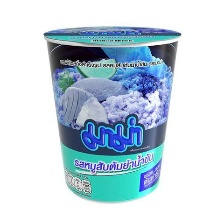paper_cup: (39, 21, 184, 206)
